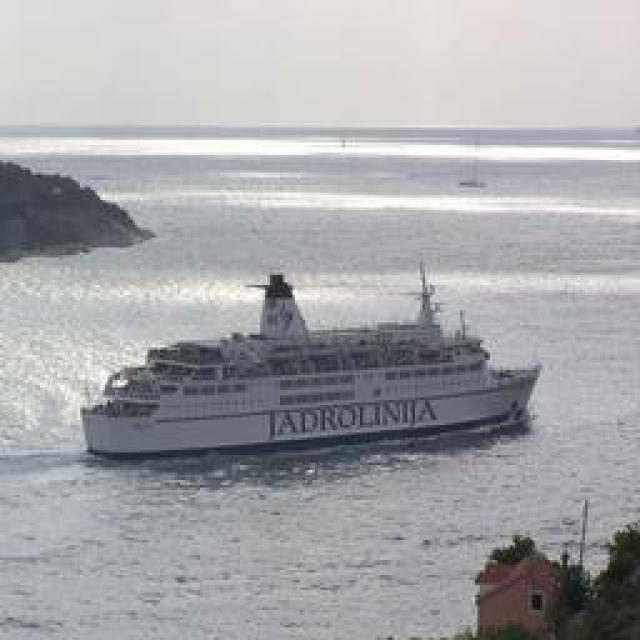CIV_Ship: (82, 266, 520, 462)
